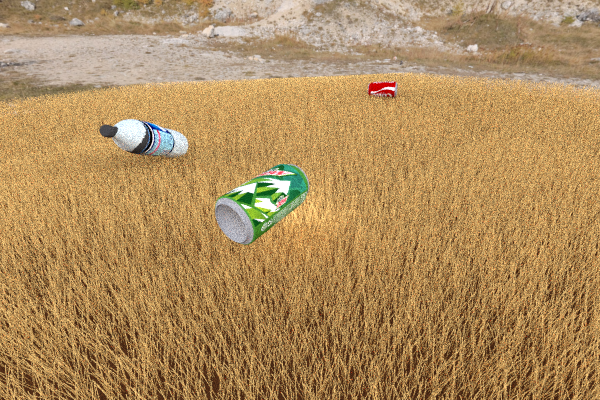Plastic Bottle: (215, 163, 309, 244), (99, 119, 188, 158), (367, 81, 397, 97)
